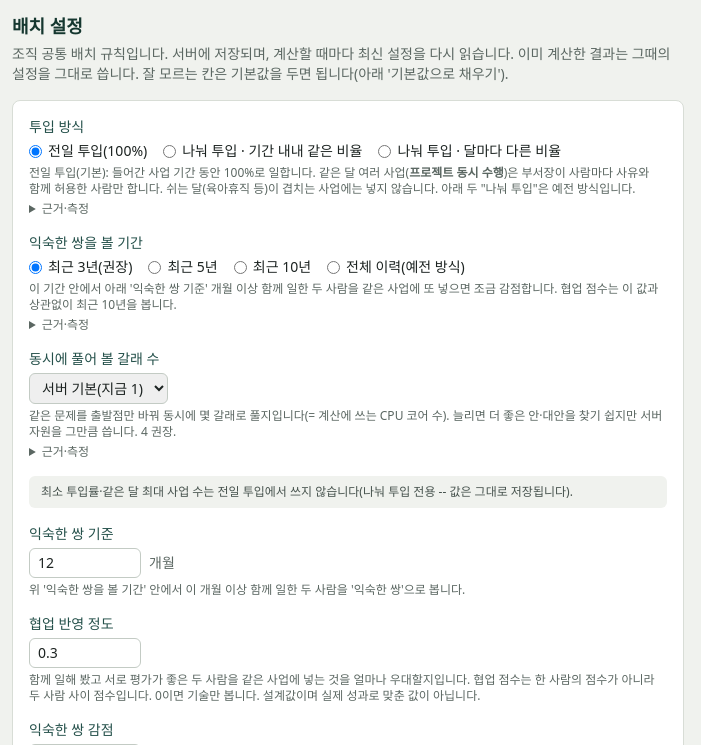
Test: SettingsTab 전일 투입 › 전일 투입이면 투입률 나누기 칸을 숨기고, 예전 방식을 고르면 다시 보인다
Expected: the radio button labelled "전일 투입(100%)" is checked, [29,144,42,158]
Click the radio button labelled "나눠 투입 · 기간 내내 같은 비율": (170, 151) [163,144,176,158]
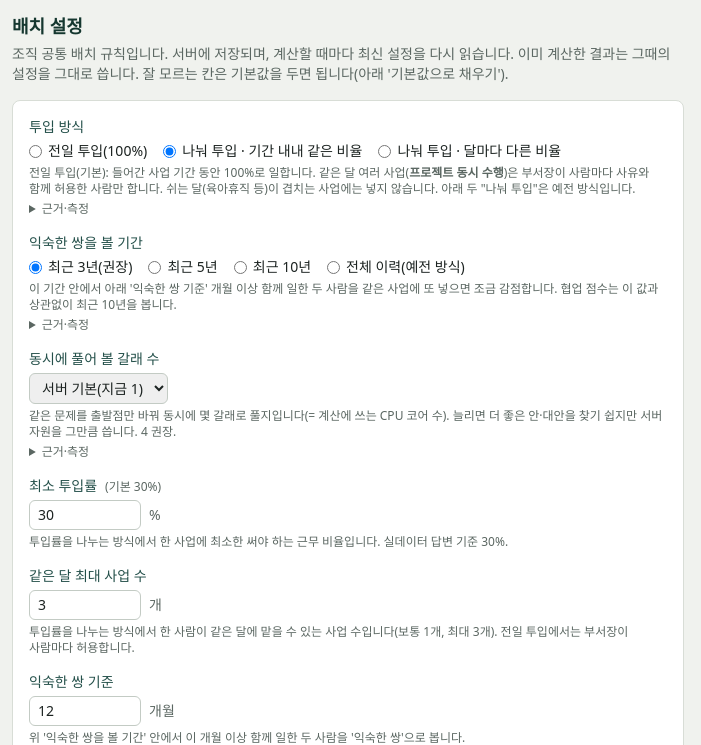
Expected: the field labelled "최소 투입률(기본 30%)" is shown, [29,500,141,530]
